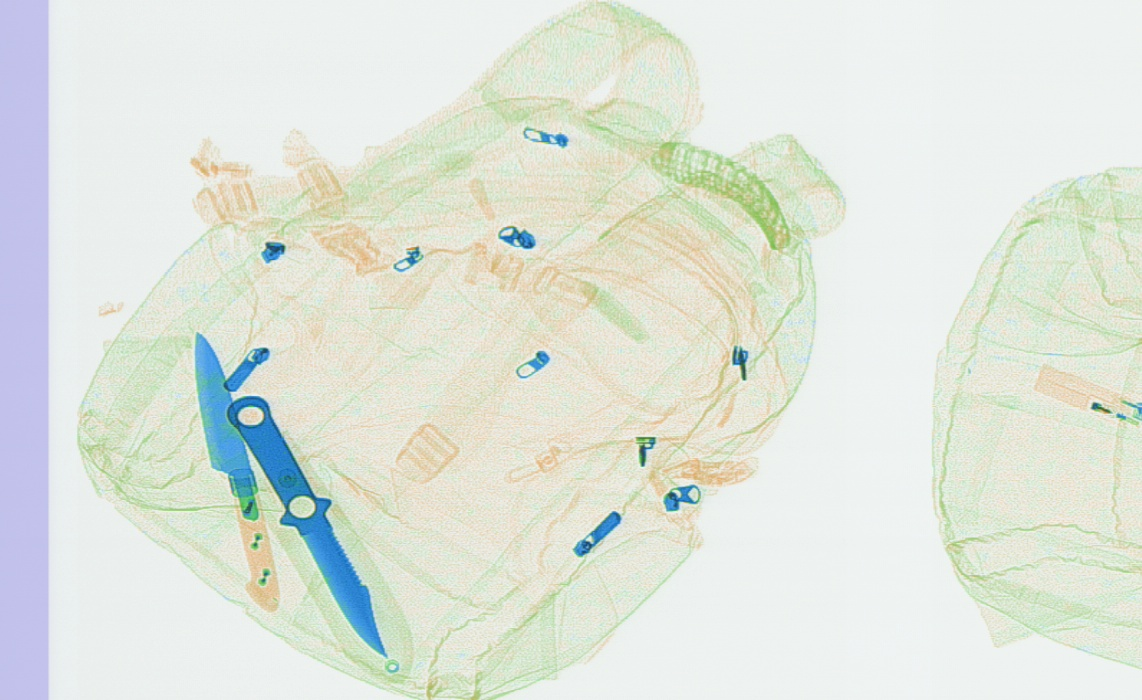knife: (226, 394, 419, 687), (192, 328, 281, 615)
lighter: (1032, 359, 1139, 432)
